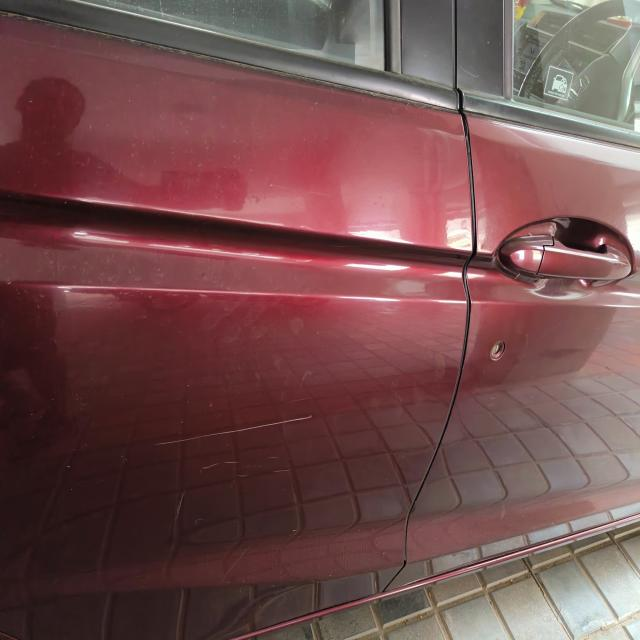scratch: (173, 446, 295, 530), (149, 405, 320, 452)
